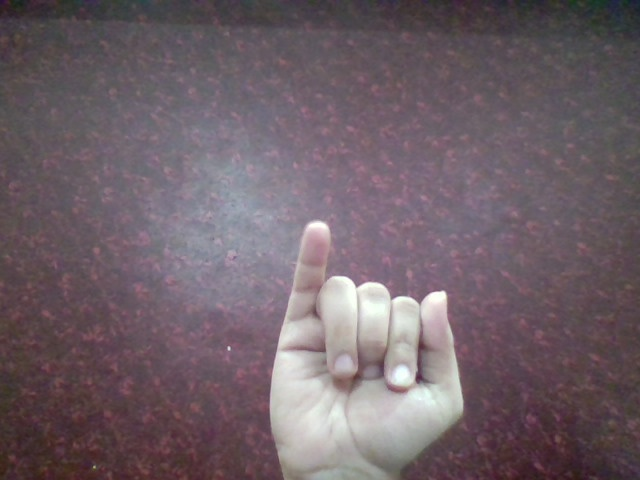i: (259, 215, 467, 470)
